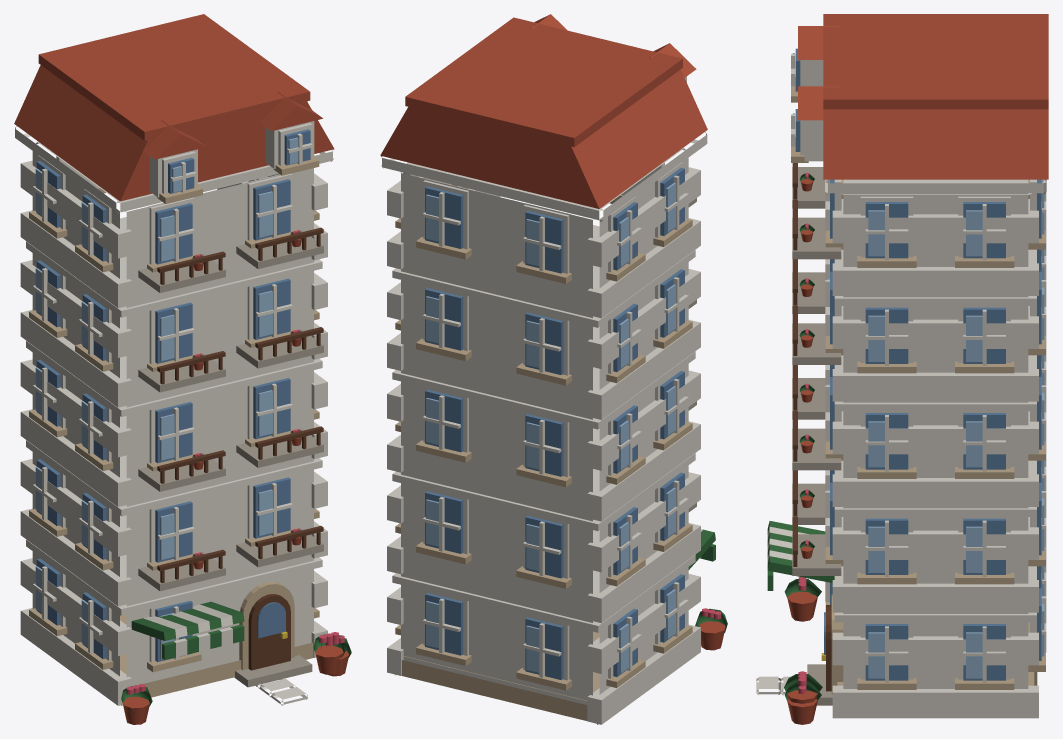
File: building-tall-b.glb
3 renders of one model, left to right at view 1: azimuth 30°, elevation 25°; view 2: azimuth 150°, elevation 25°; view 3: azimuth 270°, elevation 25°, orthographic. The views are drawn at different scales.
Visible parts, largest first — view 1: building-tall-b; view 2: building-tall-b; view 3: building-tall-b.
Part boxes in pixels (bbox=[...]): building-tall-b: bbox=[14, 14, 351, 724]; building-tall-b: bbox=[380, 14, 727, 724]; building-tall-b: bbox=[756, 14, 1048, 724].
Bounding box in the file's own units: 0.8156 × 2 × 0.8599.
